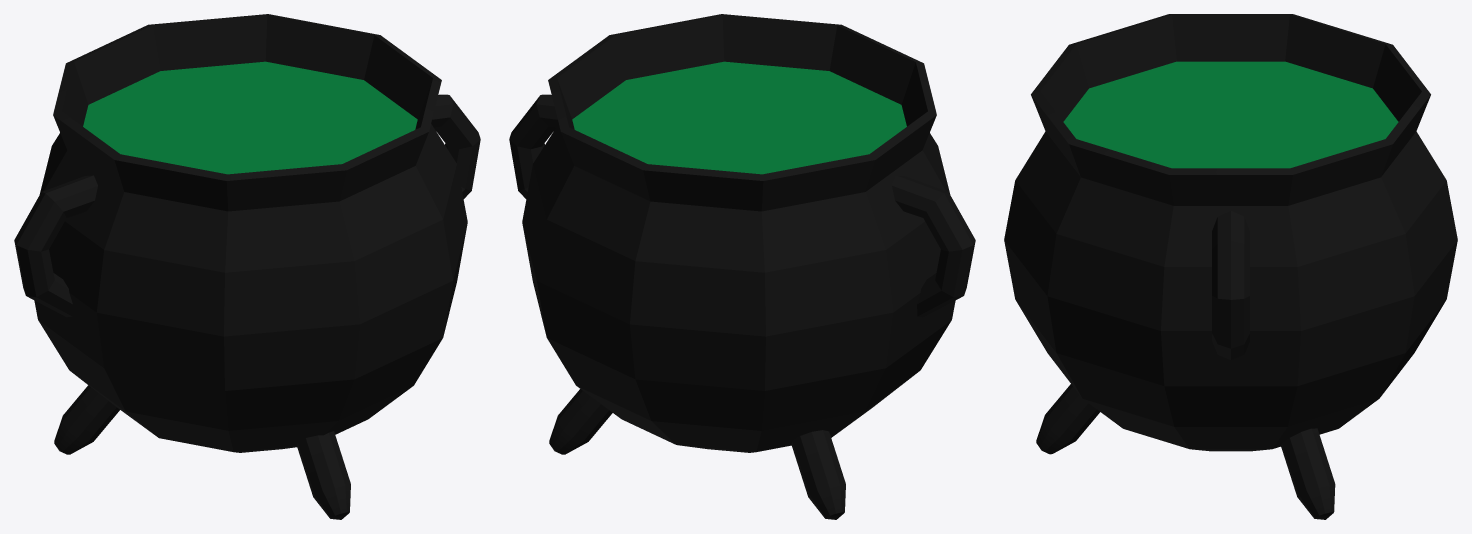
The model's file is Cauldron_v2.fbx.
The picture shows the model from 3 angles, left to right: view 1: azimuth 30°, elevation 25°; view 2: azimuth 150°, elevation 25°; view 3: azimuth 270°, elevation 25°; orthographic projection.
Visible parts, largest first — view 1: Cauldron, Liquid; view 2: Cauldron, Liquid; view 3: Cauldron, Liquid.
Boxes of the visible parts, bbox=[...] form: Cauldron: bbox=[14, 14, 480, 519]; Liquid: bbox=[83, 61, 417, 174]; Cauldron: bbox=[509, 14, 975, 519]; Liquid: bbox=[572, 61, 906, 174]; Cauldron: bbox=[1004, 14, 1457, 519]; Liquid: bbox=[1063, 61, 1398, 168].
Size of the model in its own units: 117 by 86.44 by 98.42.
